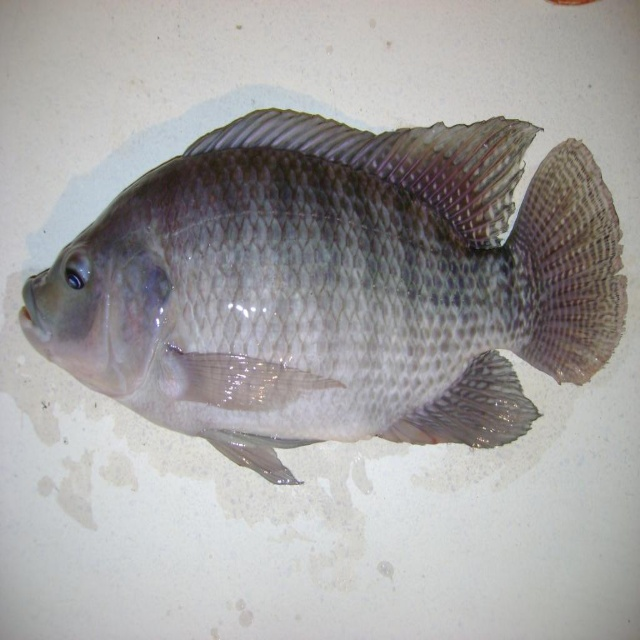Fish: (17, 109, 630, 484)
